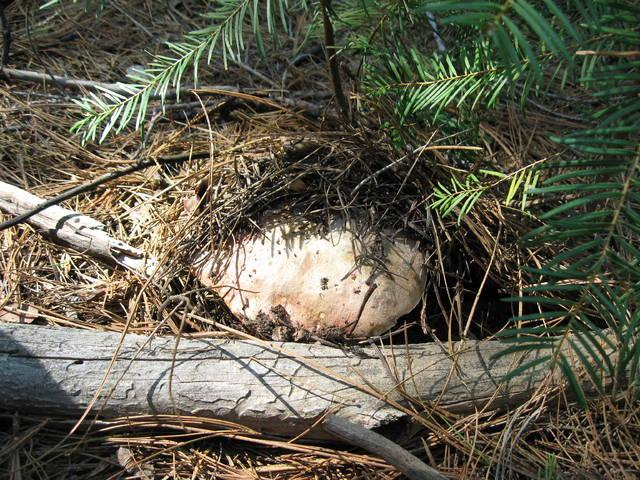Edible Mushroom: (187, 214, 429, 341)
